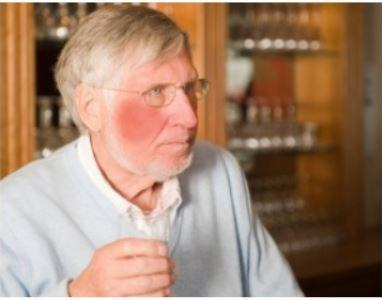Drunk: (118, 53, 200, 172)
